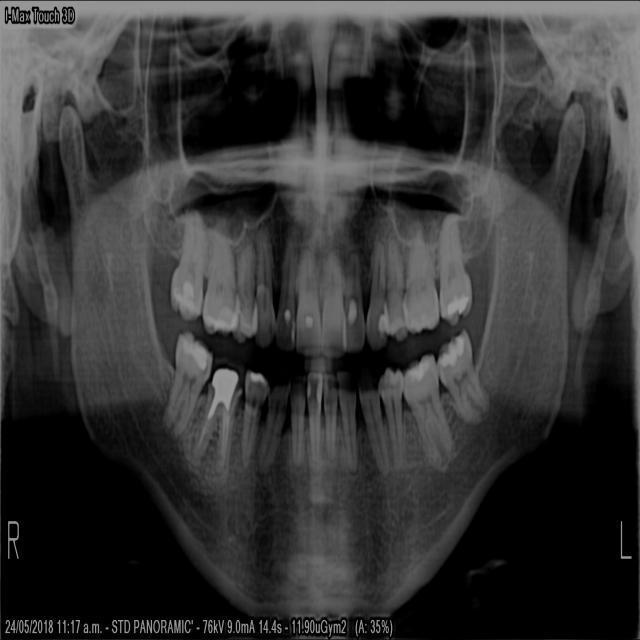LCU: (366, 221, 388, 352)
LID: (334, 366, 357, 474), (322, 371, 338, 474)
LIU: (320, 231, 346, 361), (344, 237, 365, 352)
LMD: (403, 348, 455, 469), (436, 323, 491, 427)
LMU: (404, 215, 440, 336), (437, 208, 472, 329)
LPMD: (357, 364, 390, 478), (377, 361, 406, 470)
LPMU: (387, 225, 407, 343)
RCU: (248, 220, 274, 349)
RID: (304, 368, 321, 472), (287, 379, 304, 470)
RIU: (293, 228, 321, 358), (272, 221, 300, 351)
RMD: (190, 351, 246, 477), (157, 327, 213, 440)
RMU: (198, 212, 234, 337), (167, 206, 204, 321), (227, 228, 254, 346)
RPMD: (253, 380, 287, 477), (238, 366, 269, 470)
